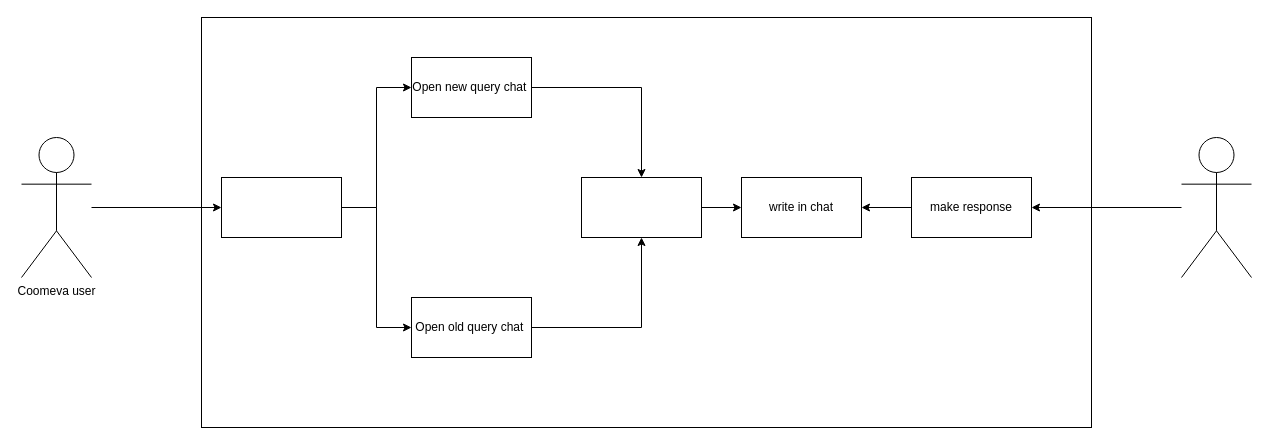
Some shapes in this 1269 by 445 pixel diagram are drawn without their labels. The centre of each missing label's shape, as x and y in pixels:
IA CHATGPT: pixel 1216 207
make a User: pixel 281 207
typing a question: pixel 641 207
